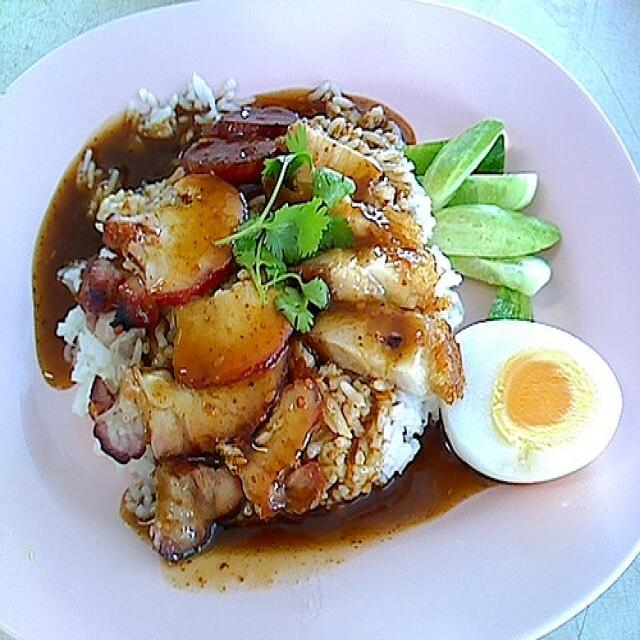猪肉菜式: (4, 7, 635, 633)
